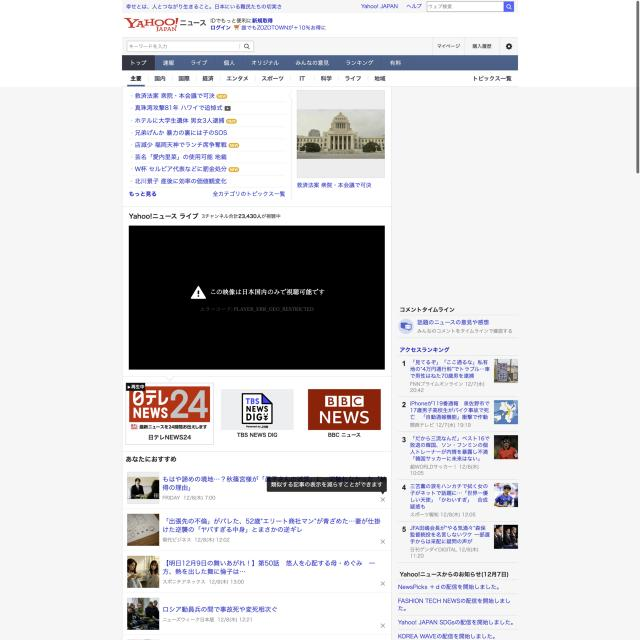input: (127, 41, 254, 52), (427, 1, 514, 12)
logo: (124, 15, 207, 35)
navigation: (122, 71, 391, 87), (123, 56, 410, 70), (125, 3, 422, 10)
